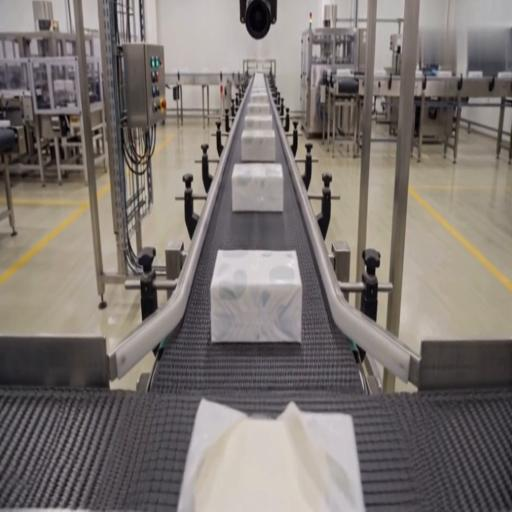defective: (179, 395, 363, 511), (210, 249, 301, 345)
good: (231, 162, 284, 213), (240, 126, 278, 163), (243, 110, 273, 130), (246, 98, 271, 114), (248, 78, 270, 96)
